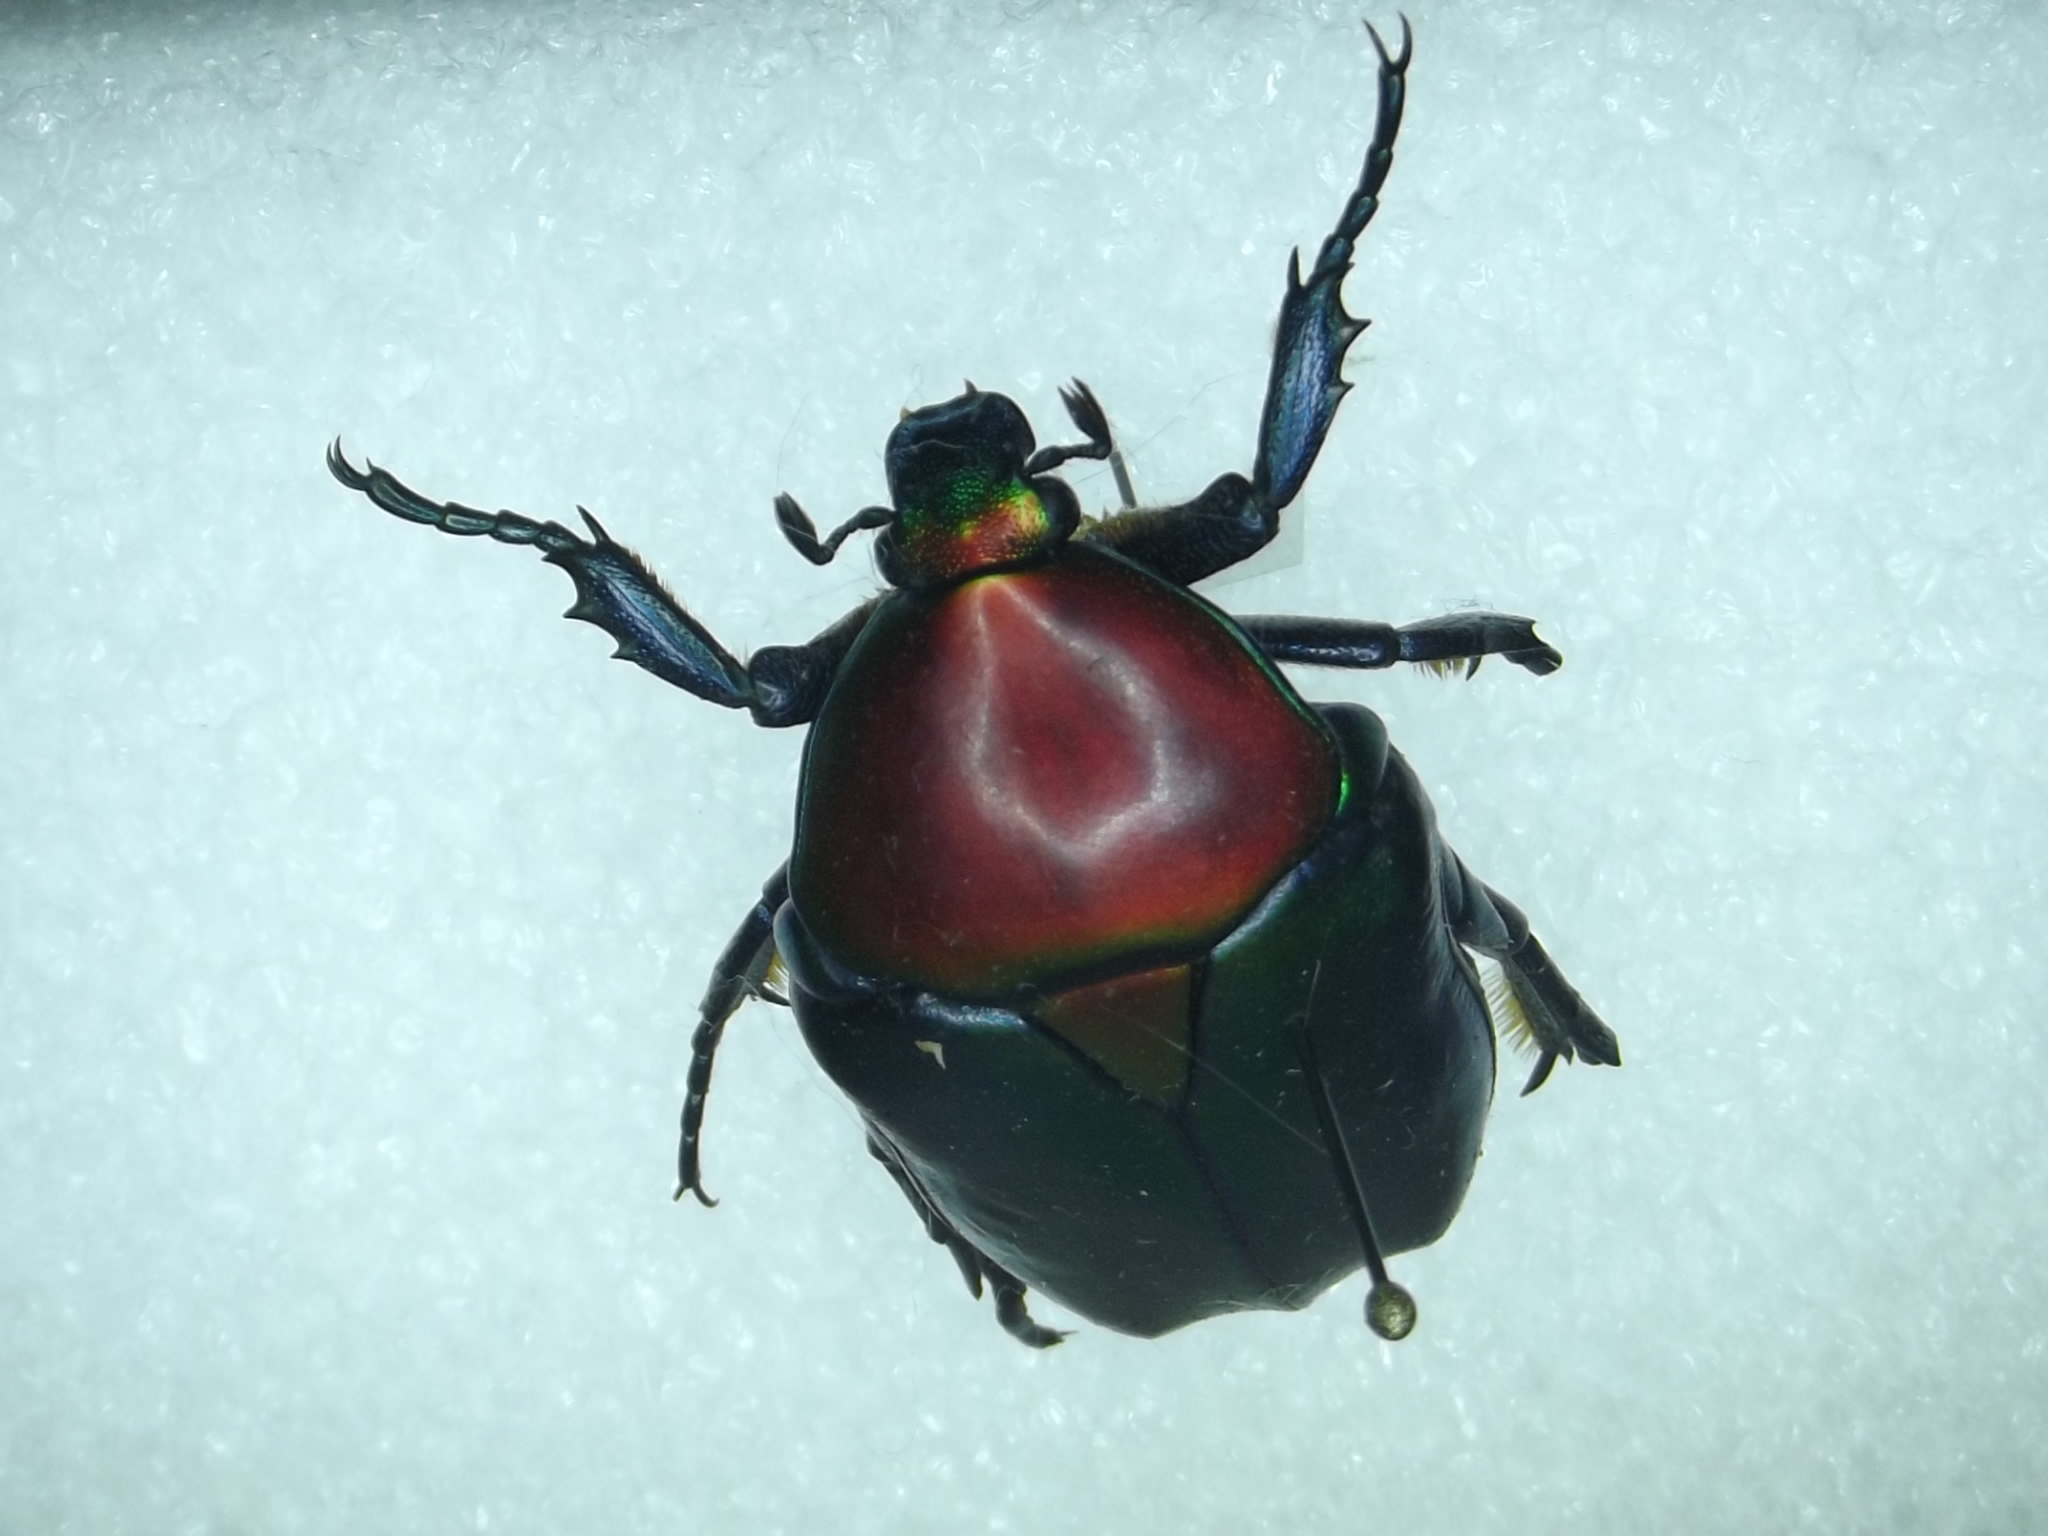Protaetia_speciosa_jousseliniw: (277, 2, 1643, 1405)
